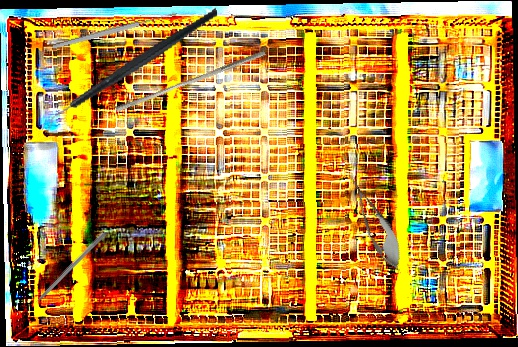Chopper: (29, 6, 236, 136)
Micro Scissor: (337, 165, 412, 278)
Pusher: (114, 44, 267, 118), (23, 229, 108, 315)
Surgical Spoon: (51, 10, 178, 51)
